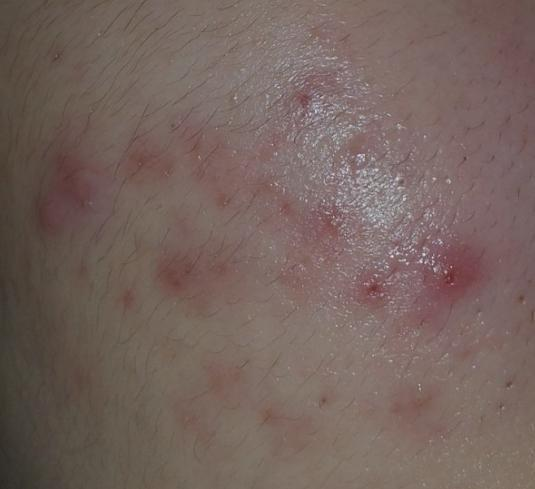blackhead: (386, 169, 423, 207)
papular: (26, 157, 111, 254), (428, 259, 485, 302)
whitehead: (218, 74, 263, 125)
